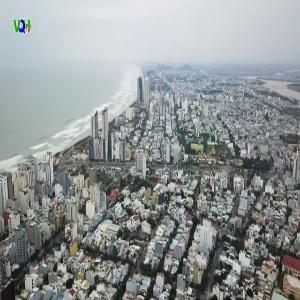drone: (77, 222, 146, 291)
